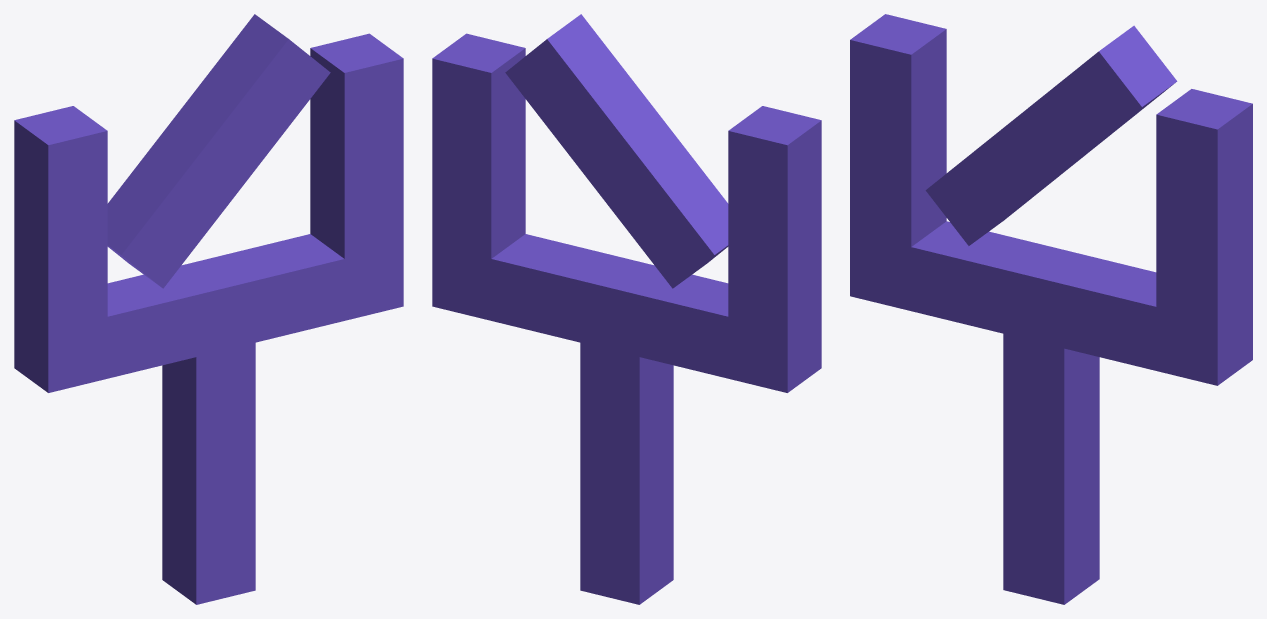
File: ObscurationTest.glb
3 renders of one model, left to right at view 1: azimuth 30°, elevation 25°; view 2: azimuth 150°, elevation 25°; view 3: azimuth 330°, elevation 25°, orthographic. The views are drawn at different scales.
Visible parts, largest first — view 1: Diagonal, LeftSide, RightSide, Base, Crossbar; view 2: Diagonal, LeftSide, RightSide, Base, Crossbar; view 3: RightSide, LeftSide, Base, Crossbar, Diagonal.
Boxes of the visible parts, bbox=[...] form: Diagonal: bbox=[107, 14, 330, 288]; LeftSide: bbox=[14, 106, 107, 392]; RightSide: bbox=[310, 33, 403, 320]; Base: bbox=[162, 342, 255, 604]; Crossbar: bbox=[107, 234, 344, 378]; Diagonal: bbox=[505, 14, 728, 288]; LeftSide: bbox=[728, 106, 821, 392]; RightSide: bbox=[432, 33, 525, 320]; Base: bbox=[580, 342, 673, 604]; Crossbar: bbox=[491, 234, 728, 378]; RightSide: bbox=[1156, 89, 1252, 385]; LeftSide: bbox=[850, 14, 946, 310]; Base: bbox=[1003, 333, 1099, 604]; Crossbar: bbox=[911, 221, 1156, 370]; Diagonal: bbox=[925, 25, 1177, 245].
Bounding box in the file's own units: 60 × 87.68 × 10.
